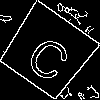C: (23, 26, 79, 85)
